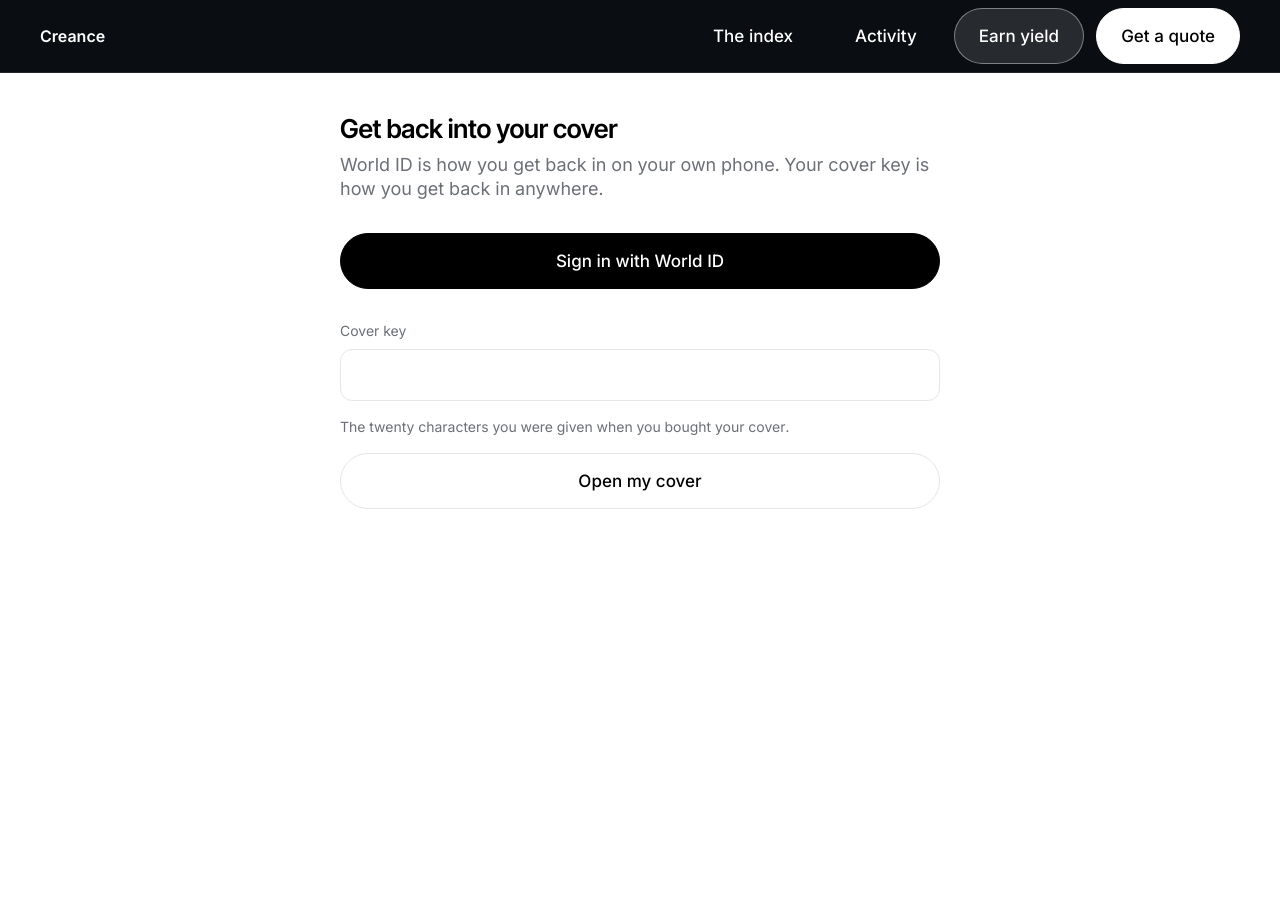
getting back into a cover › gives a person with no cover an empty state and not a failure
The width and height of the screenshot is (1280, 900).
Click the button "Sign in with World ID" at (640, 261), box [340,233,940,289]
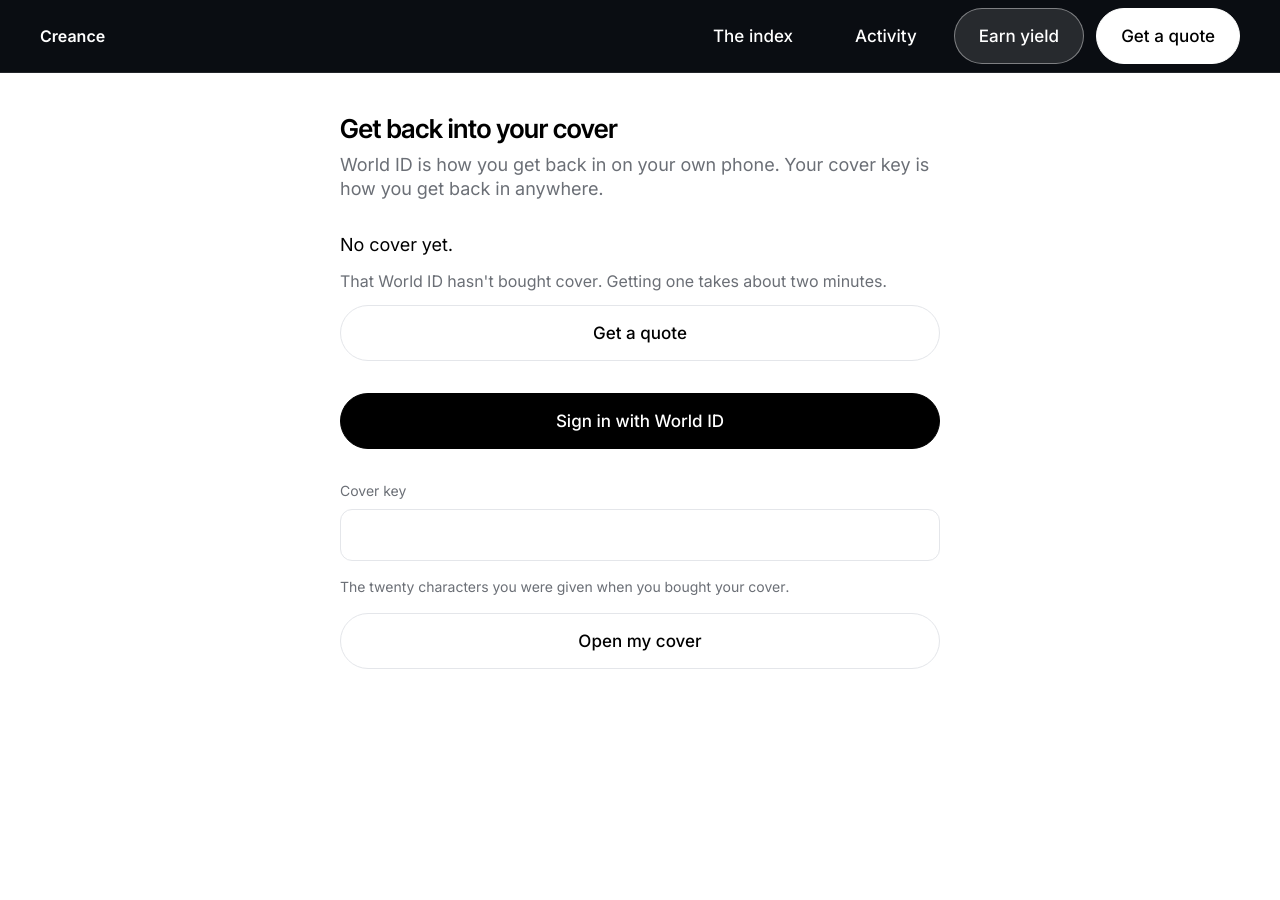
Result: the message with test id "no-cover" is shown at [340,233,940,361]
Result: the text "No cover yet." is shown at [340,234,453,255]
Result: the text "hasn't bought cover" is shown at [340,271,887,291]
